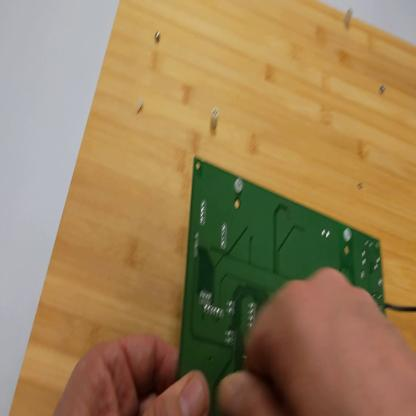hand: (216, 273, 416, 416), (56, 331, 213, 415)
low voltage board: (180, 152, 416, 416)
working area: (10, 3, 416, 415)
